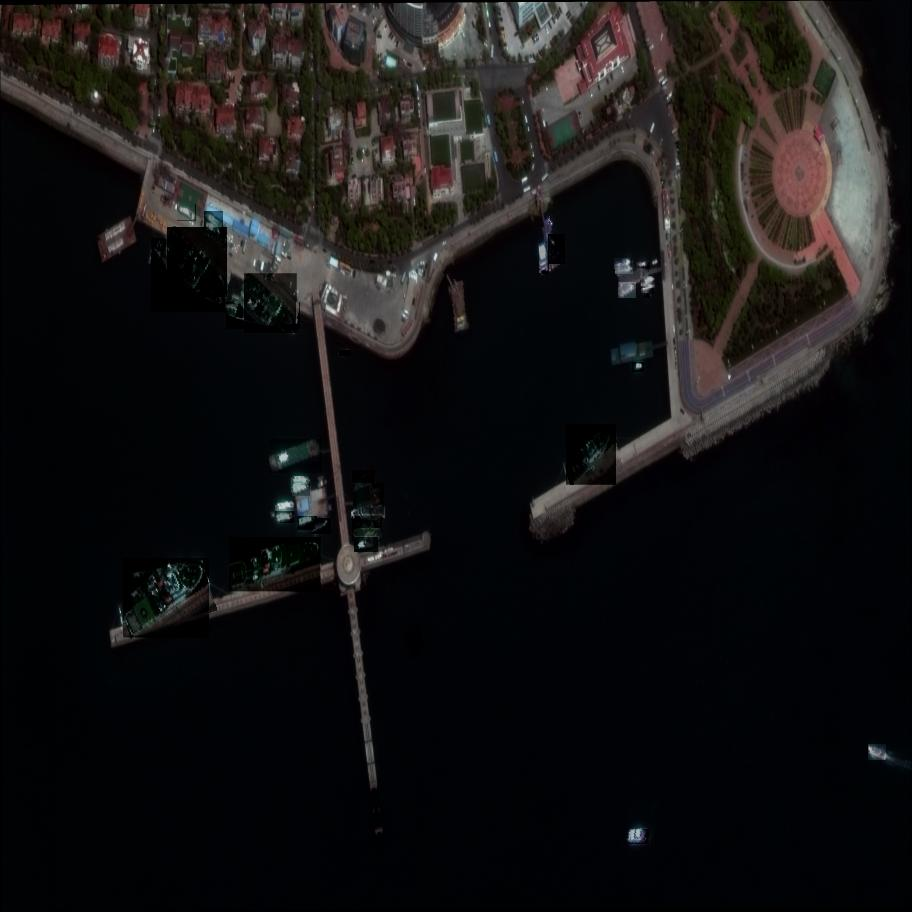ship: (117, 559, 213, 639), (147, 239, 229, 315), (225, 538, 326, 593), (164, 227, 231, 298), (562, 425, 620, 485), (242, 274, 300, 333), (224, 303, 301, 332), (268, 439, 323, 474), (130, 567, 207, 585), (351, 483, 389, 515), (451, 281, 468, 334), (548, 235, 567, 264), (352, 517, 382, 533), (351, 507, 384, 521), (353, 477, 376, 497), (352, 470, 377, 488), (203, 211, 225, 230), (354, 537, 380, 553), (176, 204, 197, 222), (352, 529, 381, 542), (310, 519, 333, 535), (867, 744, 889, 760), (618, 282, 638, 299), (539, 241, 549, 273), (296, 517, 318, 531), (291, 483, 312, 497), (627, 830, 648, 844), (202, 223, 223, 236), (275, 512, 295, 524), (614, 259, 633, 271), (640, 277, 657, 290), (275, 500, 295, 511), (641, 285, 655, 295), (291, 477, 310, 484), (616, 267, 633, 274), (632, 363, 644, 372), (637, 262, 650, 268), (339, 350, 351, 356), (644, 294, 649, 297), (550, 217, 551, 223)
